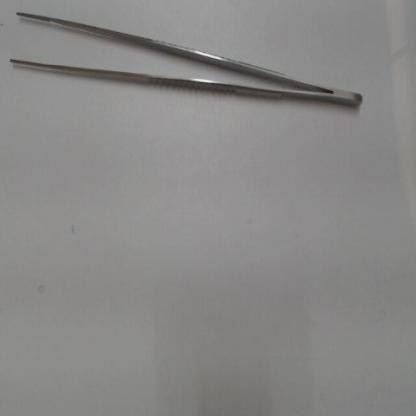DeBakey Dissector: (2, 6, 374, 113)
